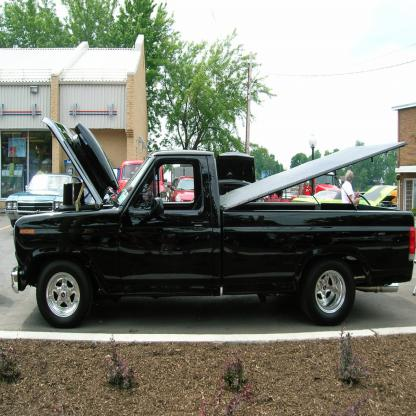Car: (4, 117, 415, 329), (5, 174, 398, 228)
Truck: (10, 117, 416, 328)
